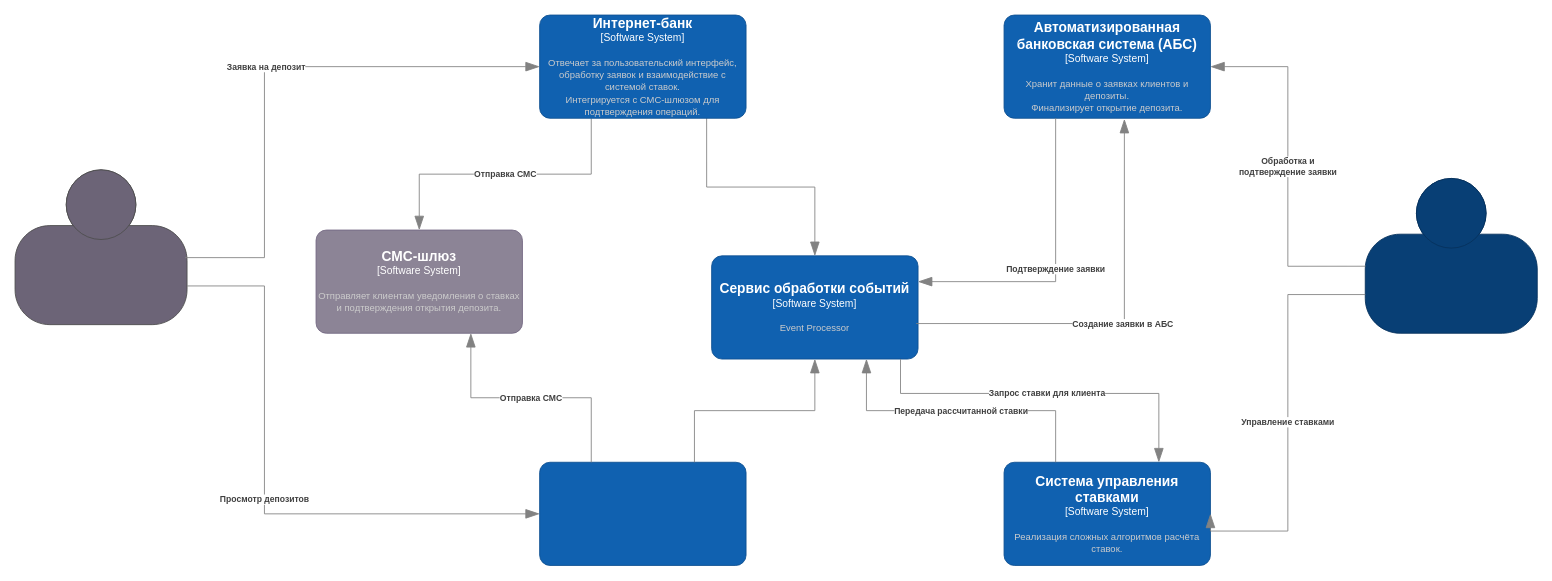
This 1552x581 diagram has some shape labels left out. The box of each missing label's shape, as (x1, y1, x2, y2) in pixels:
Клиенты [Person] Клиенты банка "Стандарт": (14, 169, 187, 325)
Менеджер бек-офиса [Person] Обработка поступающих заявок в бек-офис: (1364, 178, 1537, 333)
Сайт [Software System] Description of software system.: (539, 461, 746, 565)
